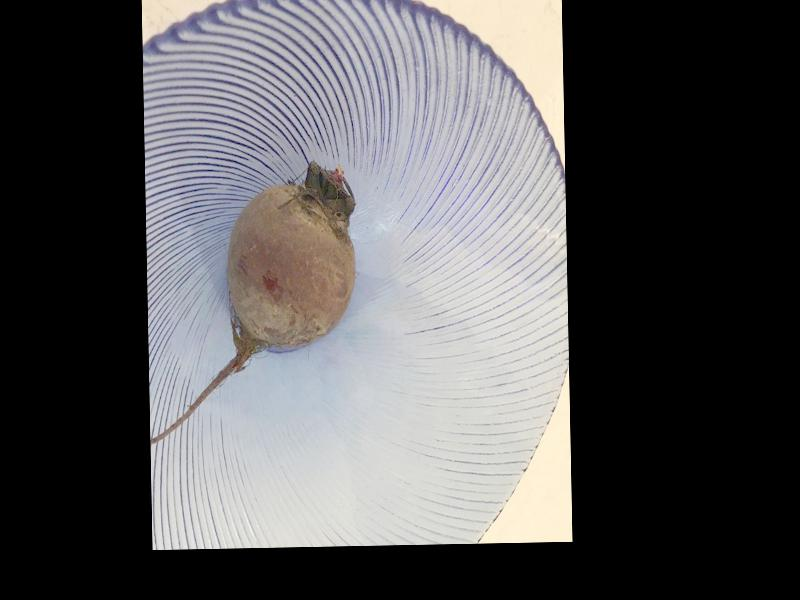Beet: (144, 161, 358, 443)
